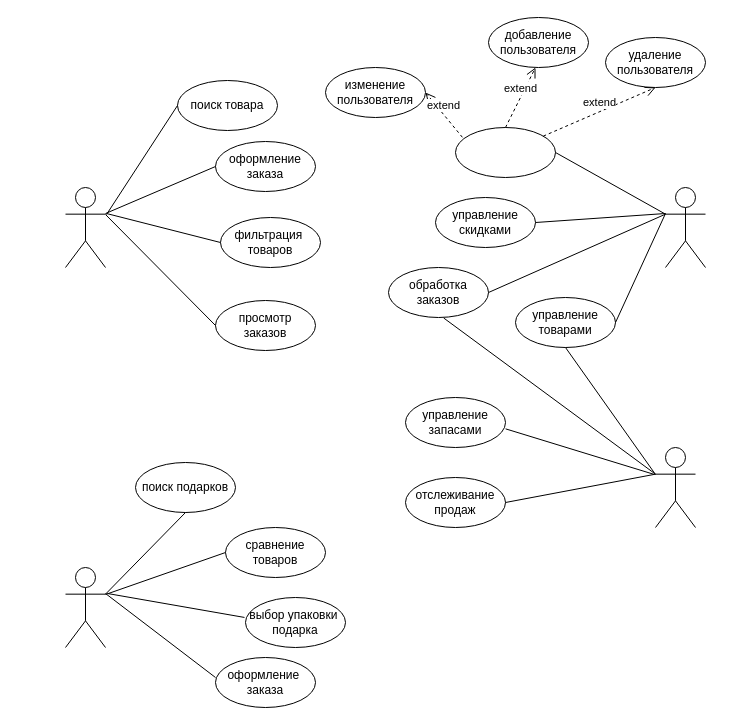
This 746x725 diagram has some shape labels left out. The shapes that lost their labels are listed below. From the top down, each one's centre as x and y in pixels, then its label:
[505,152]: управление пользователями
[85,227]: Покупатель
[685,227]: Администратор
[675,487]: Продавец
[85,607]: Подарочные покупатели
